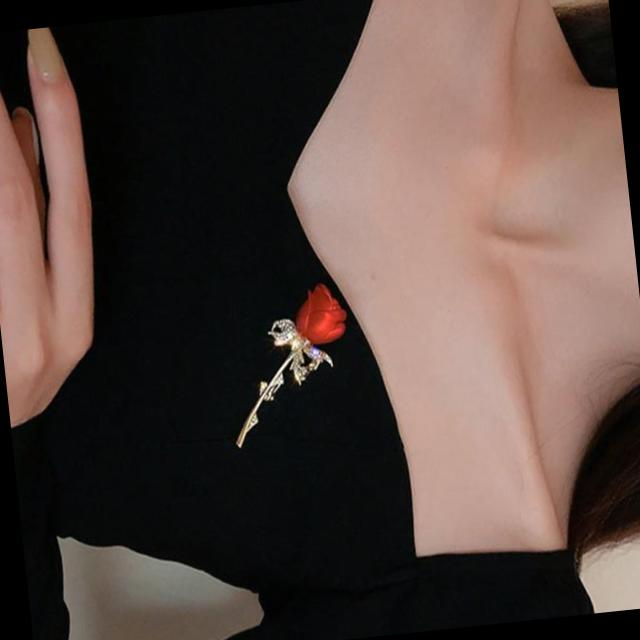Nail: (27, 27, 65, 81), (25, 109, 38, 163), (12, 108, 22, 115)
